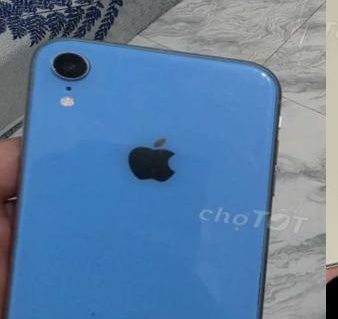scratch: (66, 299, 112, 319), (41, 53, 68, 75)
